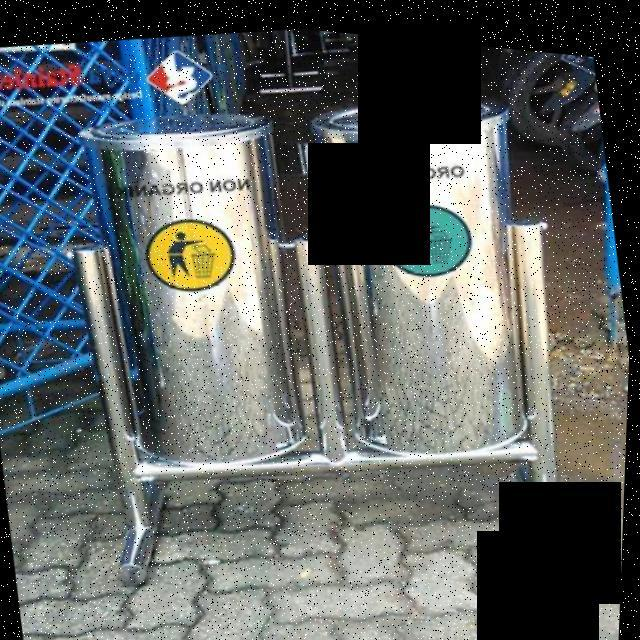bin: (256, 45, 608, 492), (53, 58, 345, 508)
